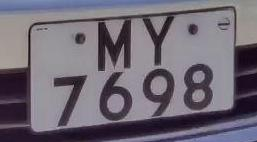6: (93, 69, 144, 127)
7: (44, 67, 90, 132)
8: (177, 59, 221, 117)
9: (137, 65, 179, 123)
M: (91, 16, 142, 73)
Y: (136, 13, 182, 70)
